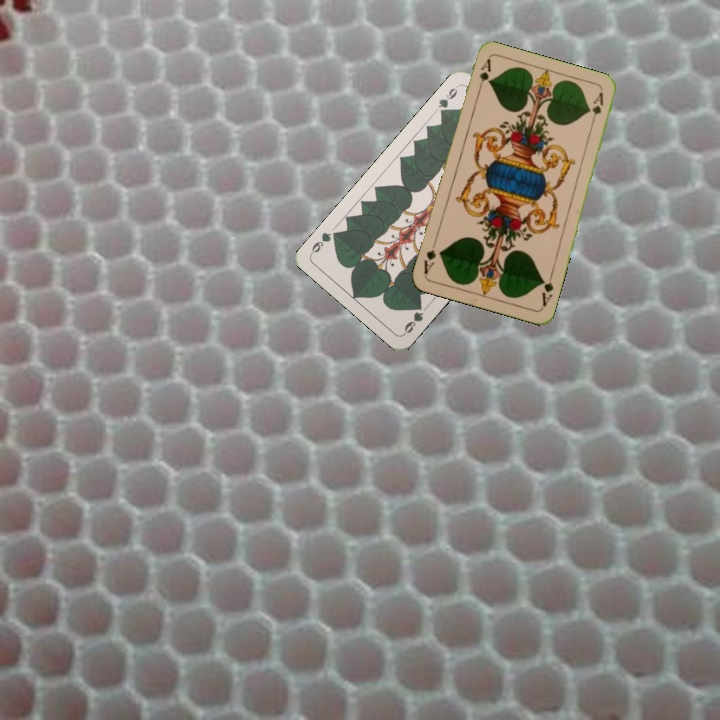G9: (399, 299, 426, 337), (434, 81, 461, 119)
GA: (474, 55, 494, 95), (538, 269, 556, 309)
